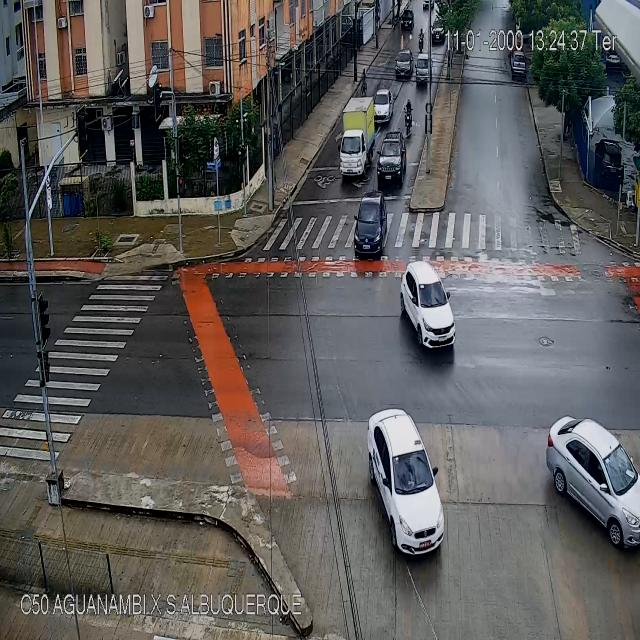Car: (546, 416, 640, 549), (367, 410, 445, 553), (400, 261, 455, 348), (354, 192, 388, 254), (375, 131, 407, 186), (373, 88, 392, 121), (415, 52, 430, 86), (395, 49, 412, 78), (431, 17, 446, 46), (511, 54, 525, 76), (400, 9, 413, 30)
Motorcycle: (404, 99, 412, 133), (418, 28, 423, 53)
Truck: (336, 97, 374, 180)
